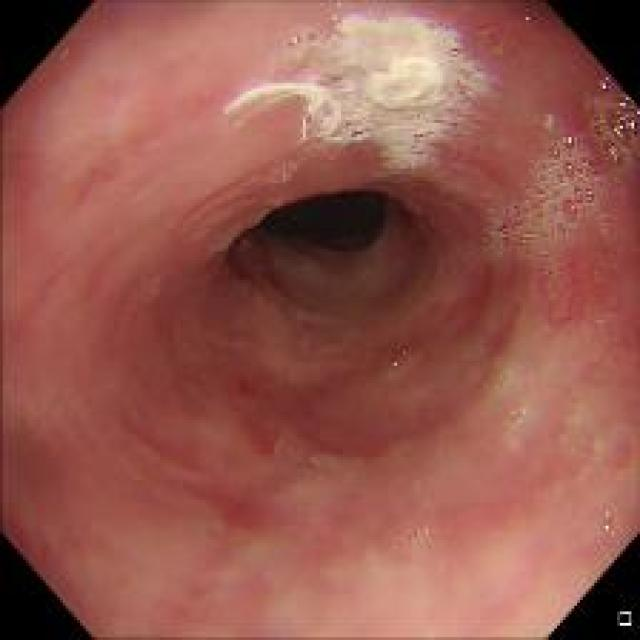bubbles: (479, 136, 609, 270), (580, 75, 638, 168), (442, 35, 478, 138), (402, 126, 430, 178), (389, 346, 420, 374), (400, 525, 431, 550), (494, 364, 518, 392), (282, 32, 321, 49), (345, 126, 375, 142), (506, 406, 525, 425), (382, 32, 401, 48), (566, 408, 580, 422), (365, 9, 376, 20)
color misalignment: (609, 91, 634, 160), (600, 510, 622, 545)
contrast: (245, 185, 402, 268)
specularity: (599, 75, 610, 91), (576, 189, 592, 200), (602, 520, 610, 535), (562, 138, 575, 146), (289, 35, 299, 42)
